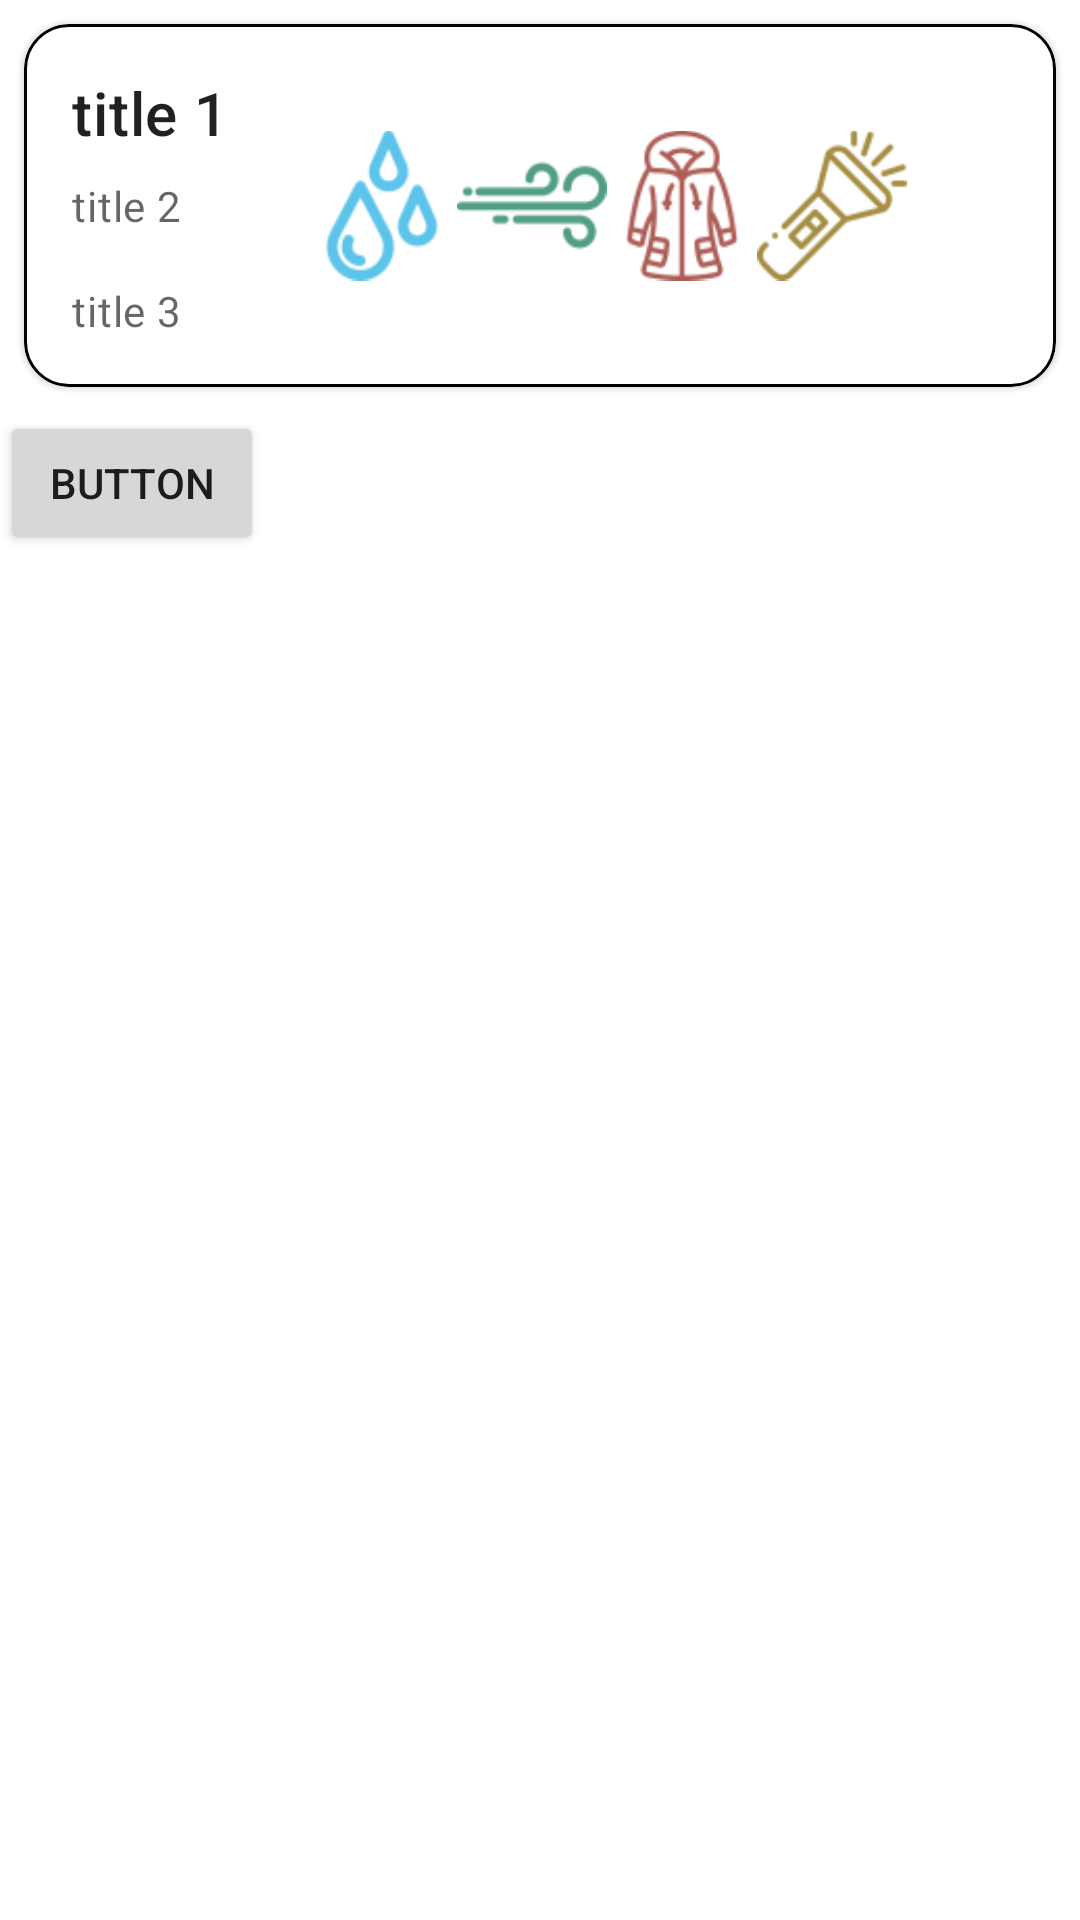

Where to tap for icons on this 1080w x 1920h app screen, as point (x, y):
coat indicator: point (682, 206)
rain indicator: point (382, 206)
wind indicator: point (532, 205)
